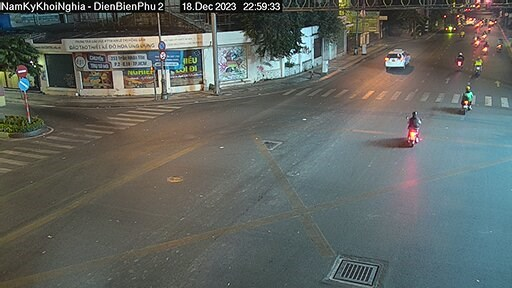car: (378, 48, 412, 72)
motorbike: (405, 109, 422, 150), (462, 83, 476, 115), (473, 58, 486, 80), (458, 52, 466, 70)
